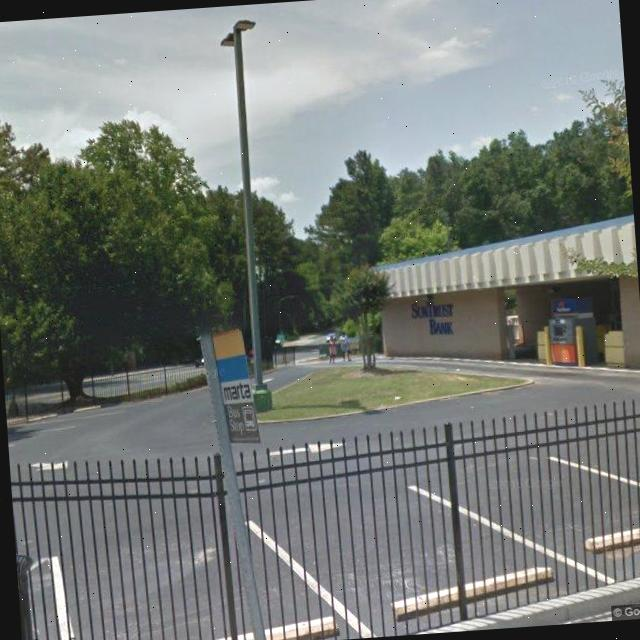trash_can: (15, 551, 40, 640)
